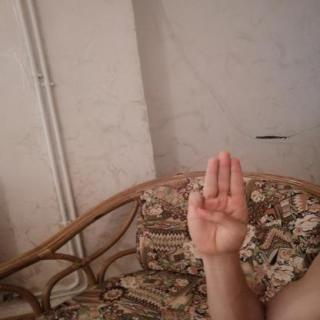THA: (177, 146, 258, 260)
